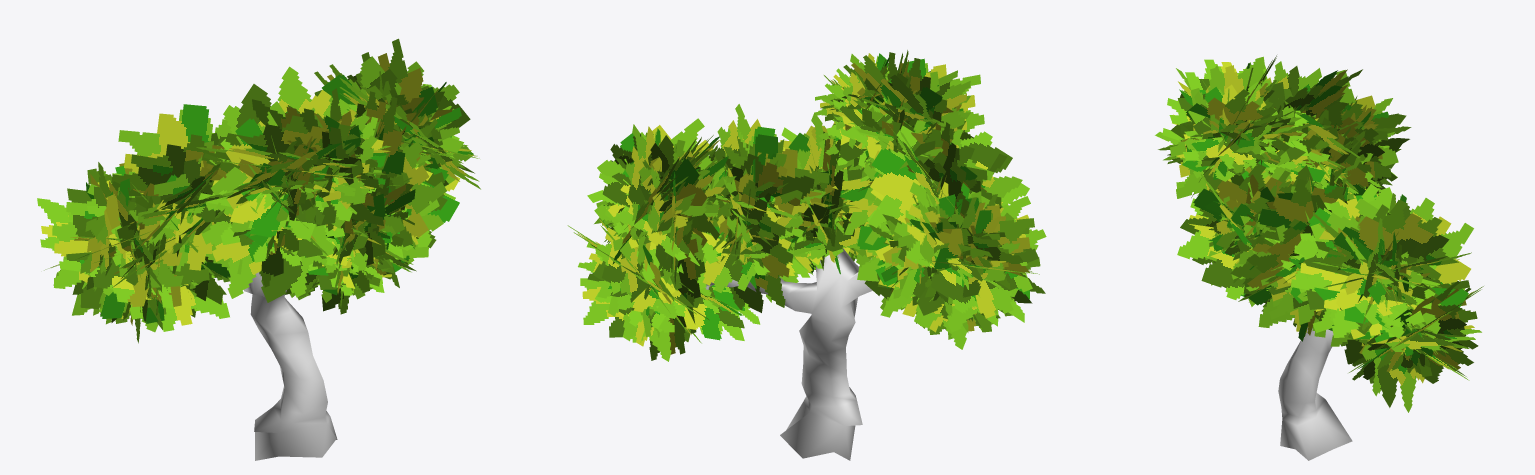
File: tropic-tree3-1.fbx
3 renders of one model, left to right at view 1: azimuth 30°, elevation 25°; view 2: azimuth 150°, elevation 25°; view 3: azimuth 270°, elevation 25°, orthographic. The views are drawn at different scales.
Visible parts, largest first — view 1: Cube; view 2: Cube; view 3: Cube.
Boxes of the visible parts, x1,y1,x2,y2 form: Cube: (37,38,480,460); Cube: (567,50,1046,460); Cube: (1155,55,1483,460).
Size of the model in its own units: 4439 by 3549 by 3220.
